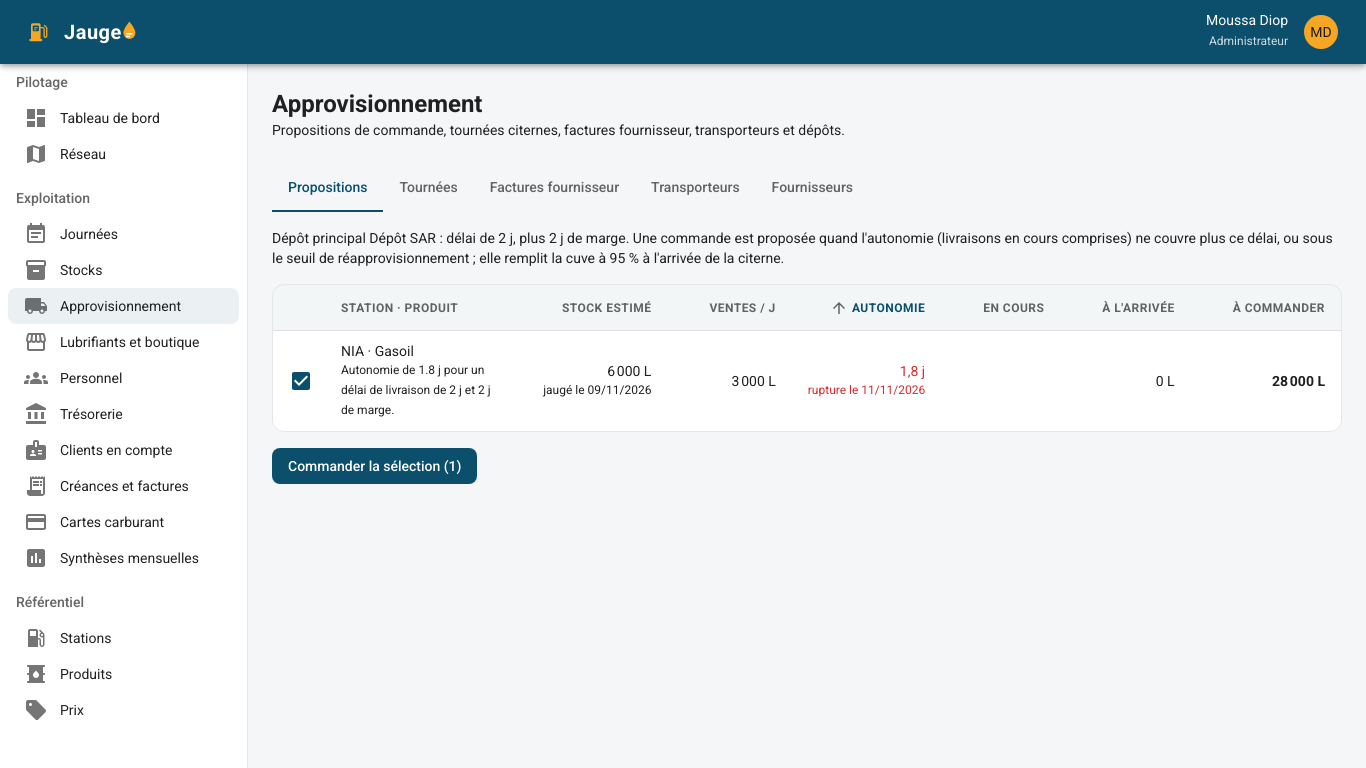
Test: page Approvisionnement › commande une tournée à partir de la proposition
Earlier steps of the test are not shown.
Click the button "Commander la sélection (1)" at (375, 466), box [272,448,478,484]
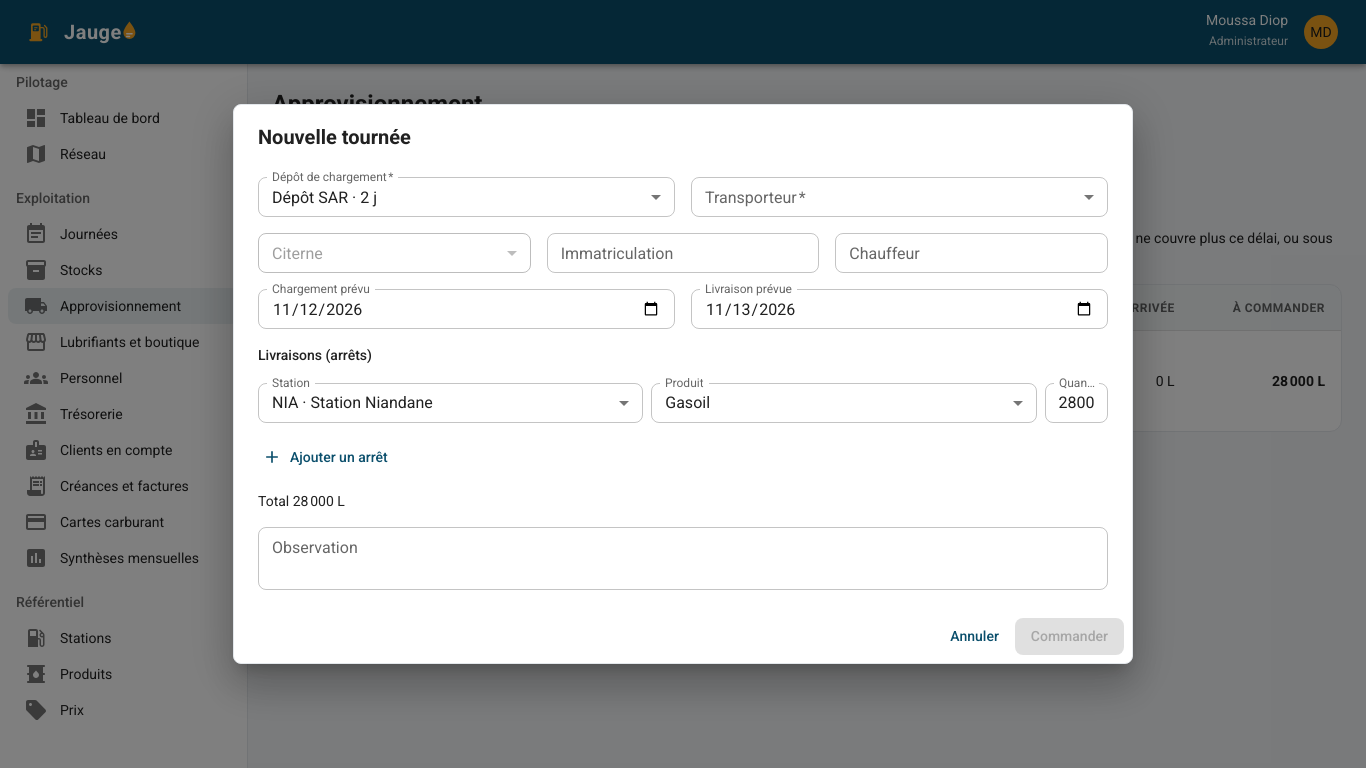
Expected: the field showing "28000" is shown, [1044,383,1108,423]
Click the dropdown named "Transporteur" in the row of "Dépôt de chargement" at (900, 197), box [691,177,1108,217]
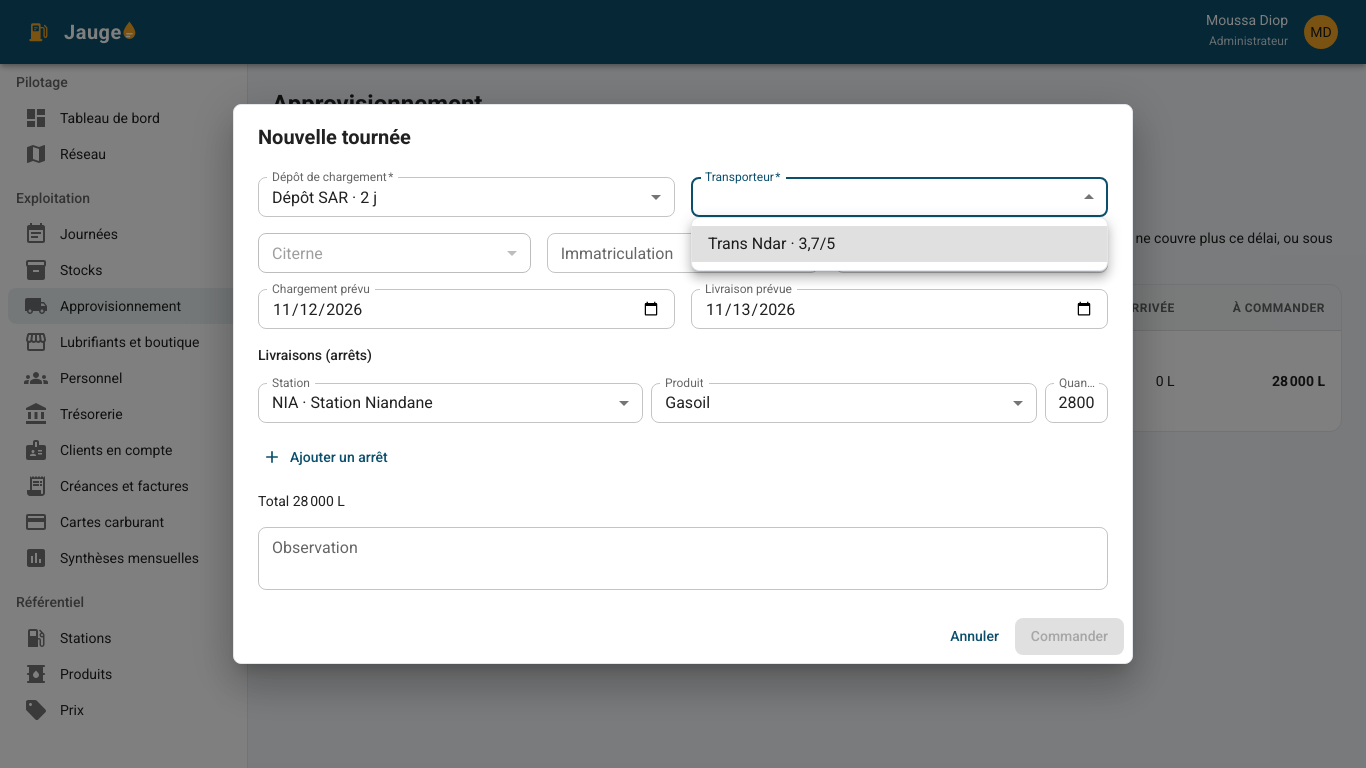
Click the option "Trans Ndar · 3,7/5" at (747, 244), box [692,226,1107,262]
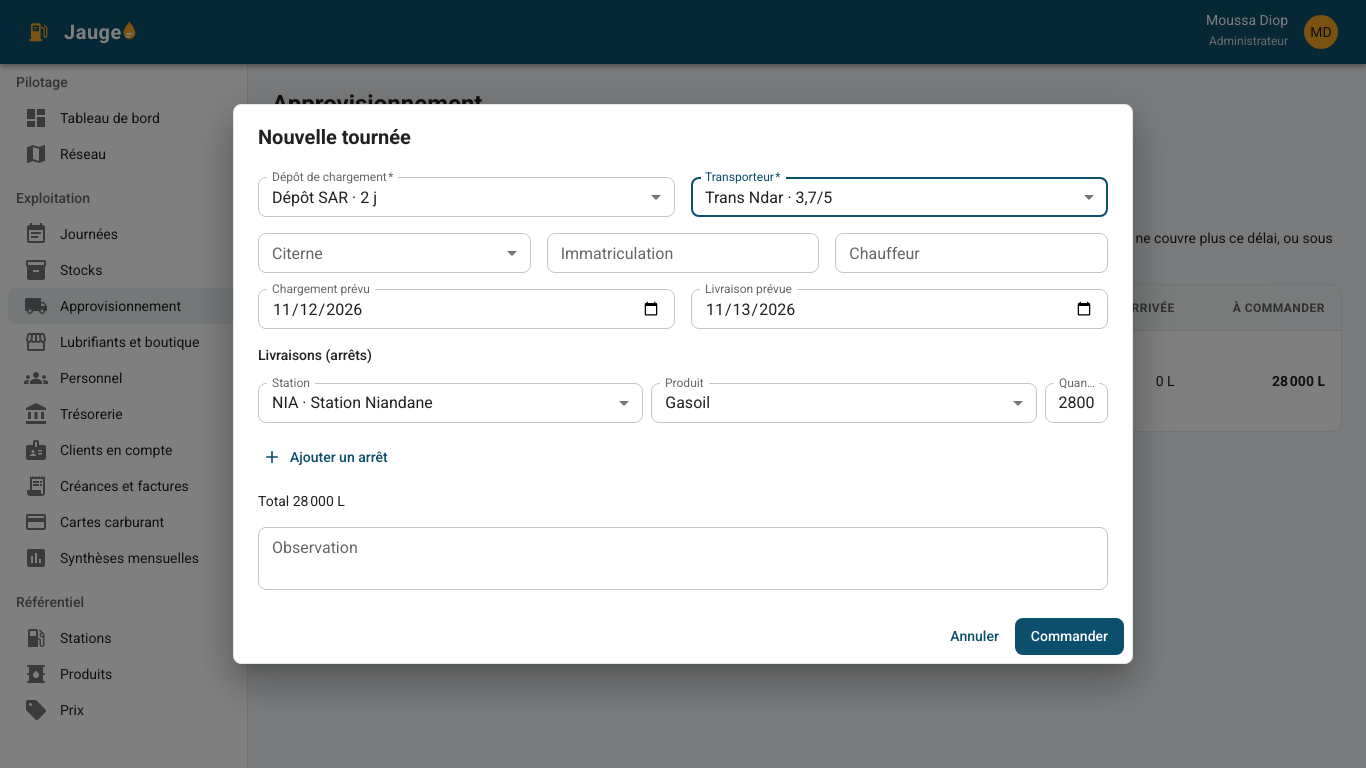
Click the dropdown named "Citerne" at (394, 253), box [258,233,531,273]
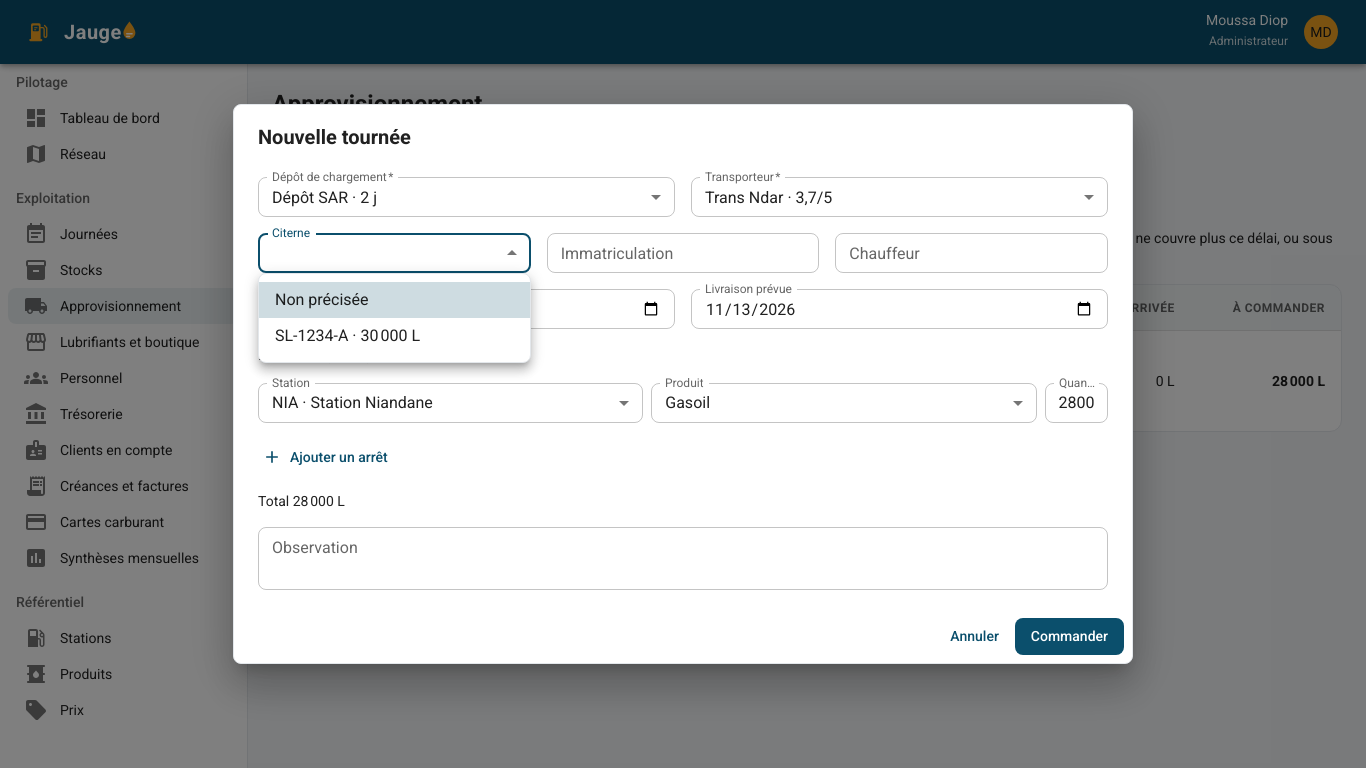
Click the option "SL-1234-A · 30 000 L" at (348, 336), box [275,326,420,345]
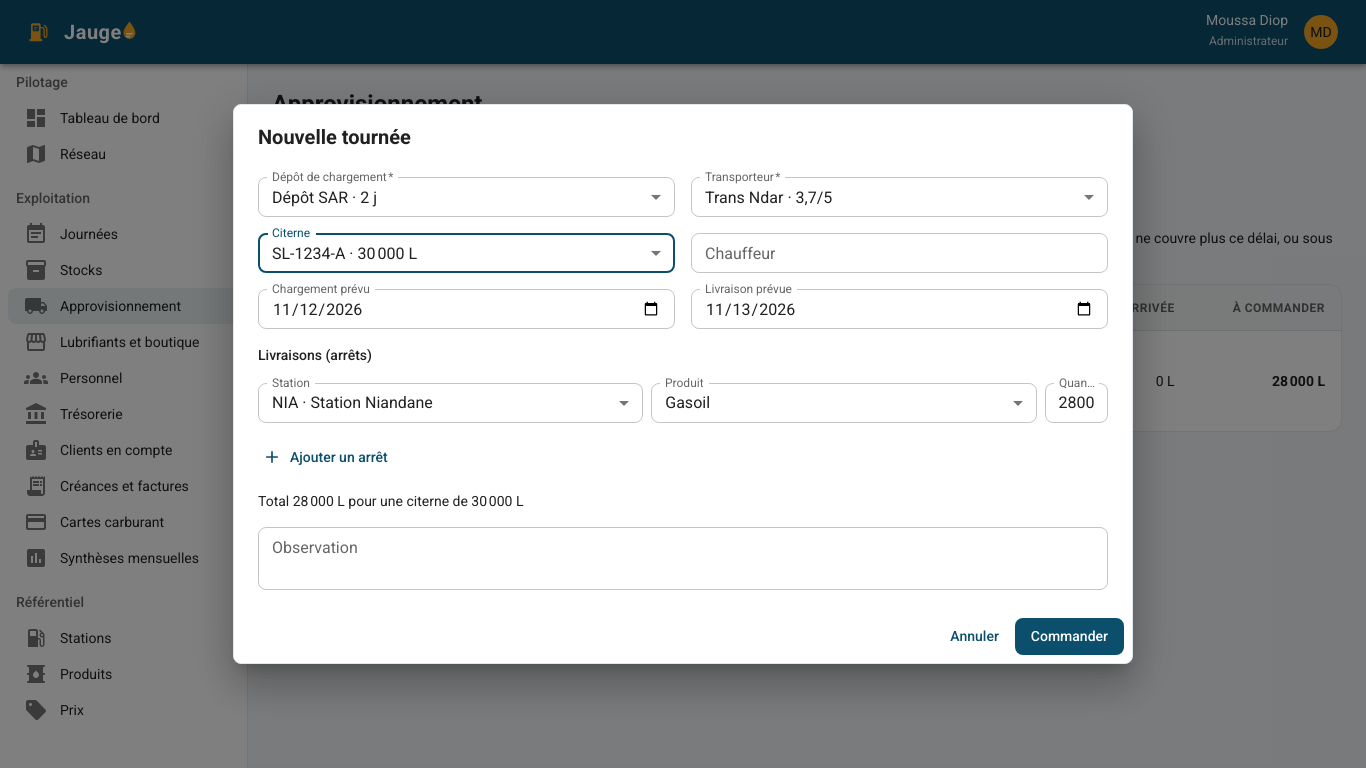
Click the button "Commander" at (1069, 637), box [1015,618,1124,655]
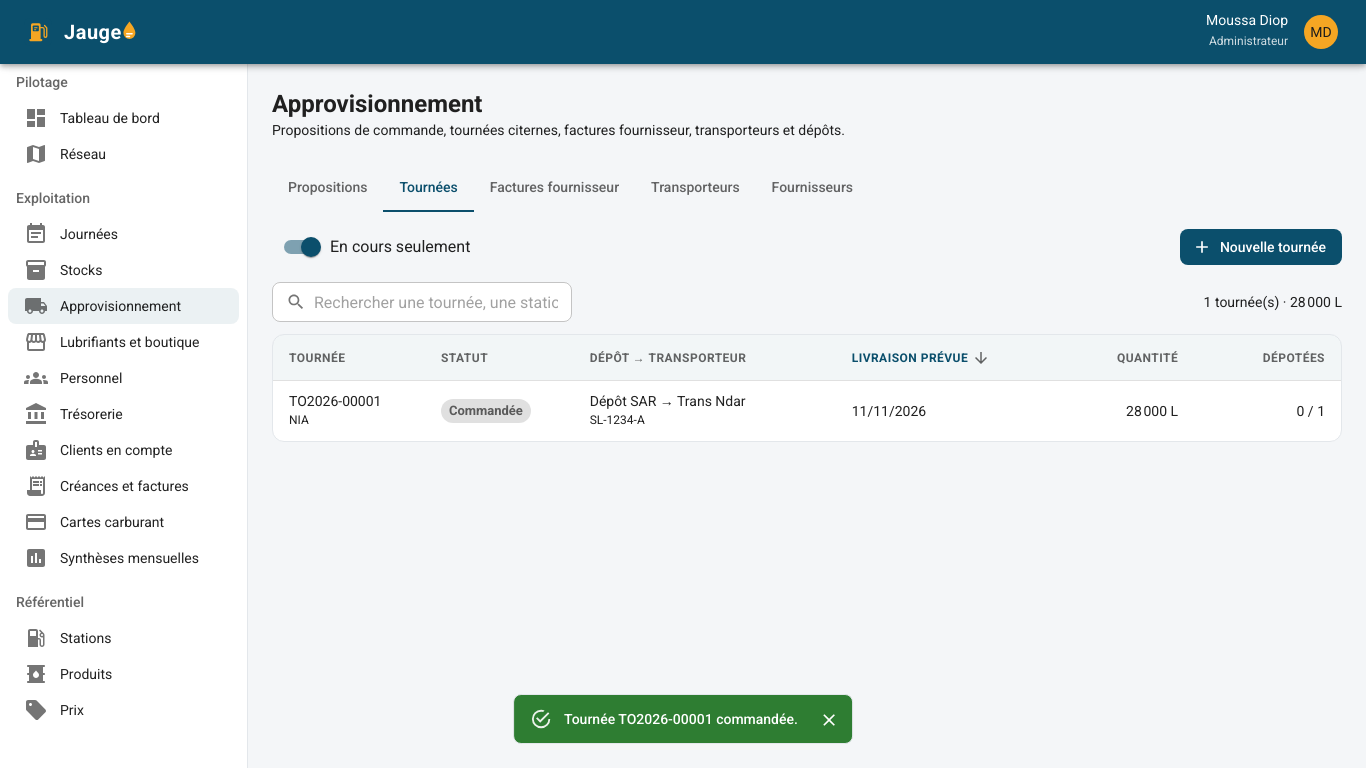
Expected: the dialog is gone
Expected: the text "TO2026-00001" is shown, [289,393,382,409]
